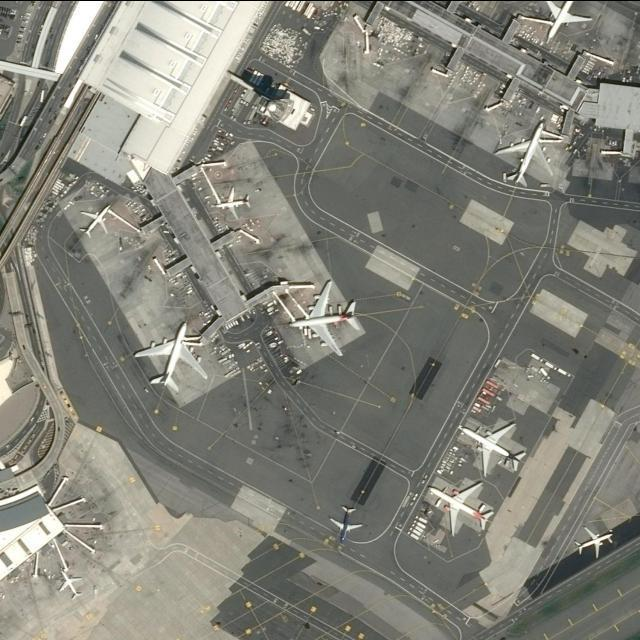Aircraft: (283, 279, 361, 356), (133, 317, 210, 391), (493, 119, 555, 187), (455, 416, 525, 476), (426, 475, 492, 535), (536, 0, 592, 39), (326, 501, 365, 541), (570, 521, 612, 558), (213, 186, 252, 217), (78, 201, 110, 237), (54, 569, 82, 599)
